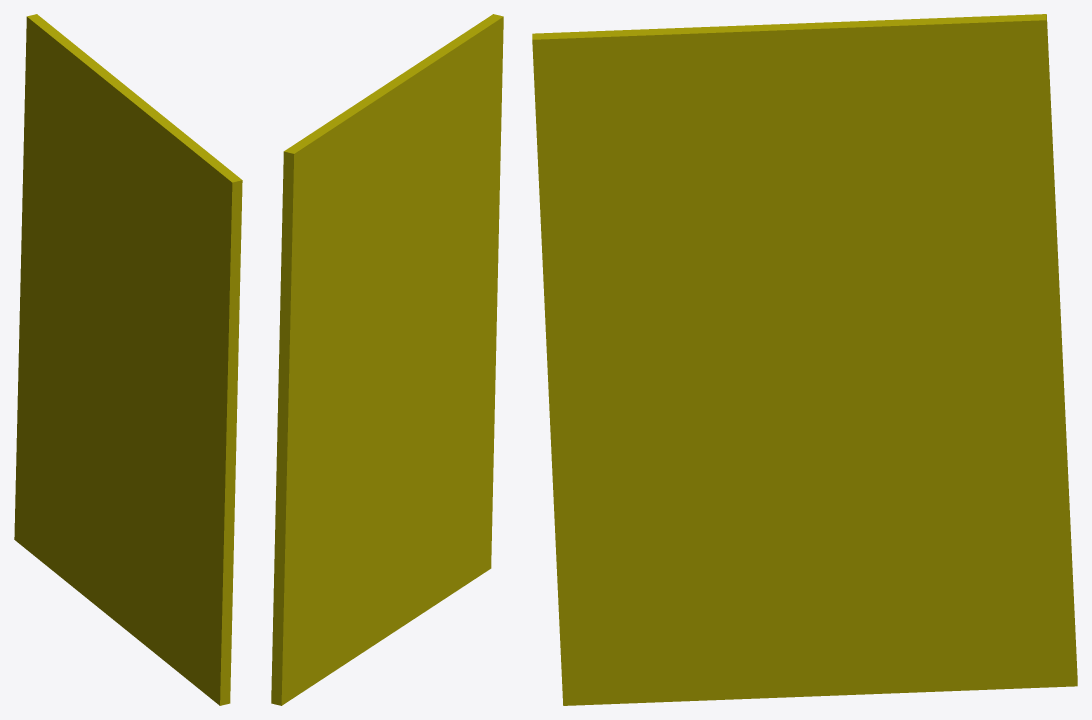
The model's file is Paper.fbx.
3 views of the same model, side by side, from view 1: azimuth 30°, elevation 25°; view 2: azimuth 150°, elevation 25°; view 3: azimuth 270°, elevation 25° (orthographic). The views are drawn at different scales.
Visible parts, largest first — view 1: Paper1; view 2: Paper1; view 3: Paper1.
Part boxes in pixels (box(x1,y1,x2,y2)): Paper1: box(14, 14, 242, 705); Paper1: box(271, 14, 503, 705); Paper1: box(532, 14, 1077, 705).
Size of the model in its own units: 0.005 by 0.2571 by 0.1854.
